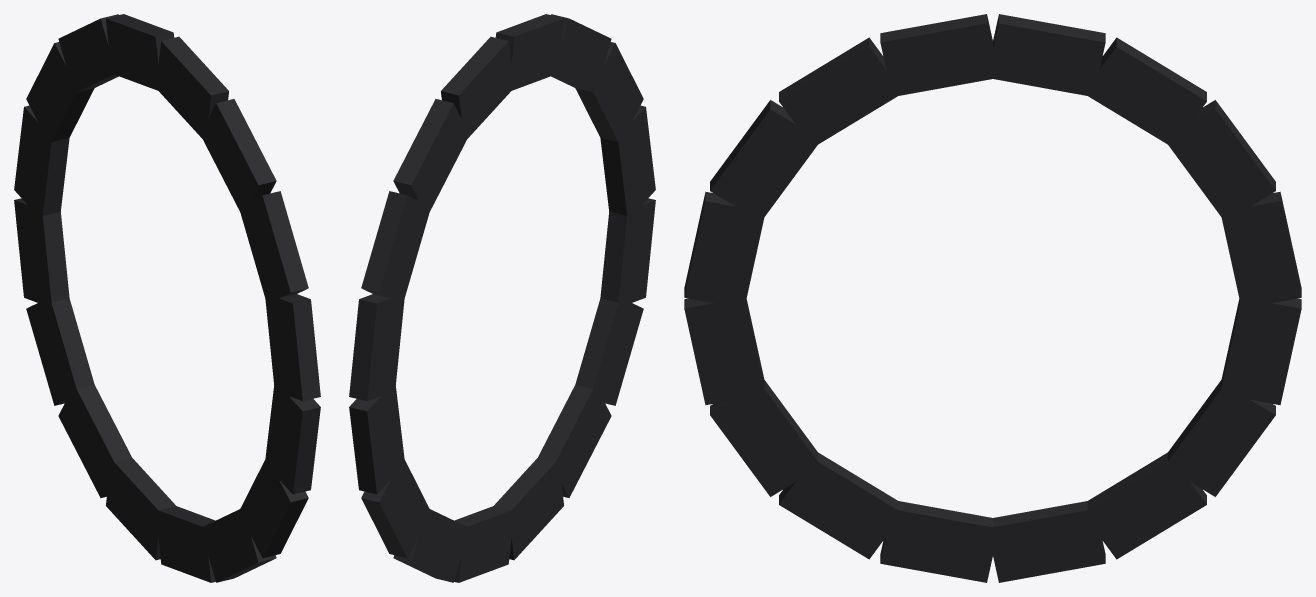
The model's file is SM_FP_Item_Cinghia.glb.
3 views of the same model, side by side, from view 1: azimuth 30°, elevation 25°; view 2: azimuth 150°, elevation 25°; view 3: azimuth 270°, elevation 25° (orthographic). The views are drawn at different scales.
Visible parts, largest first — view 1: SM_FP_Item_Cinghia; view 2: SM_FP_Item_Cinghia; view 3: SM_FP_Item_Cinghia.
Part boxes in pixels (left/top/right/bottom): SM_FP_Item_Cinghia: left=14, top=14, right=320, bottom=582; SM_FP_Item_Cinghia: left=349, top=14, right=655, bottom=582; SM_FP_Item_Cinghia: left=684, top=14, right=1301, bottom=582.
Size of the model in its own units: 0.008 by 0.2216 by 0.2216.
Materials: 1 (1 with a texture image).
